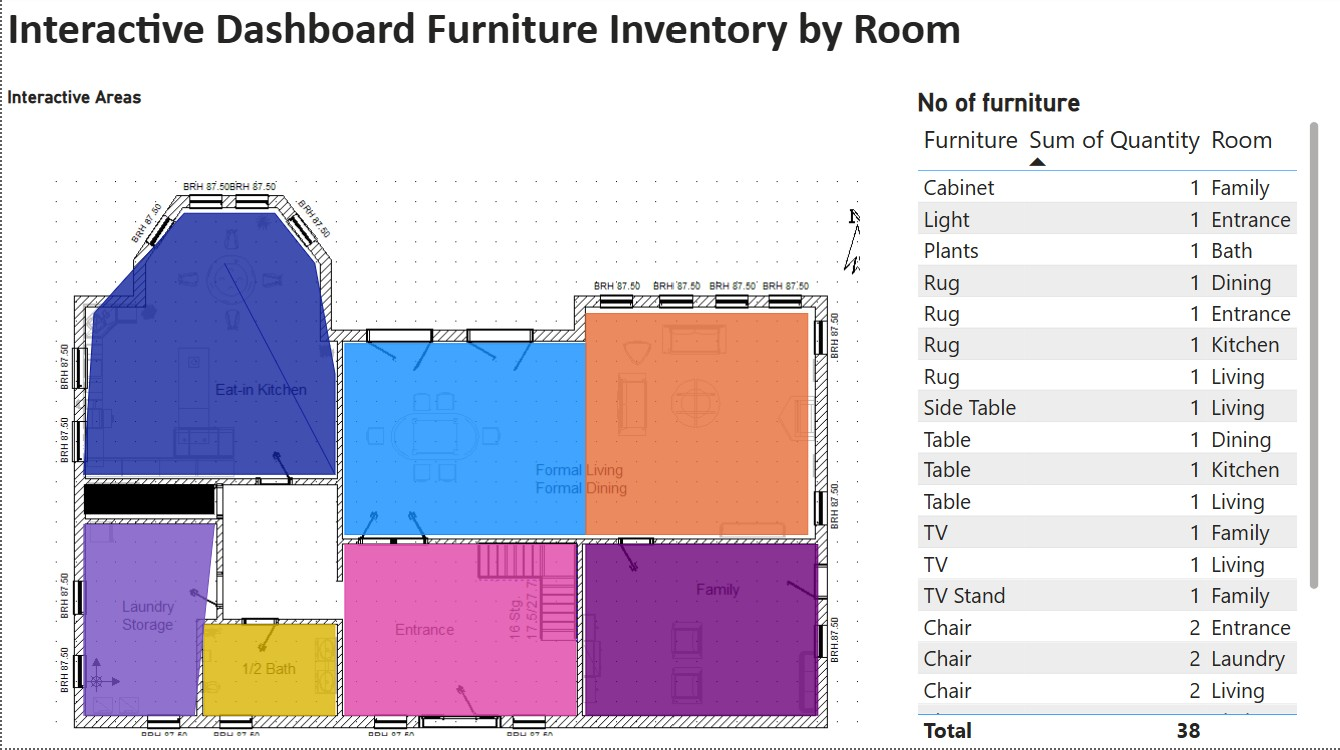

The page's visual inventory and layout, read from the dashboard file:
{"tool":"powerbi","page":{"name":"Page 1","canvas":[1280,720],"ordinal":0},"visuals":[{"type":"tableEx","title":"No of furniture","fields":{"Values":["Furniture.Furniture","Sum(Rooms.Quantity)","Rooms.Room"]},"box":[869.3,88.2,394.1,634.1],"z":0},{"type":"PBI_CV_815282F9_27F5_4950_9430_E910E0A8DB6A","title":"Interactive Areas","fields":{"Category":["Rooms.Room"],"Y":["Sum(Rooms.Quantity)"]},"box":[0,88.2,830.5,631.7],"z":1000},{"type":"textbox","box":[0,0,1279.9,88.2],"z":2000}]}

Visuals, with their boxes in screenshot pixels (x1, y1, x2, y2), scaled from the page's 1280x720 canvas onto the 1340x750 screenshot:
"No of furniture" tableEx: <region>910, 92, 1323, 749</region>
"Interactive Areas" PBI_CV_815282F9_27F5_4950_9430_E910E0A8DB6A: <region>0, 92, 869, 749</region>
textbox: <region>0, 0, 1339, 92</region>
